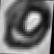correct: (0, 0, 52, 50)
